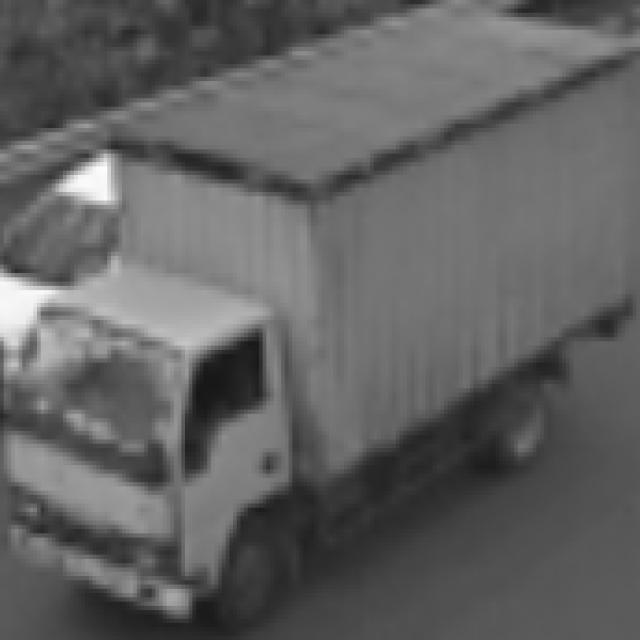truck: (2, 265, 314, 640)
